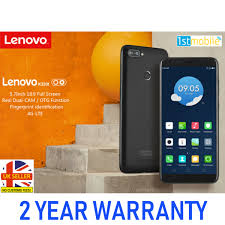lenovo: (158, 54, 220, 184)
